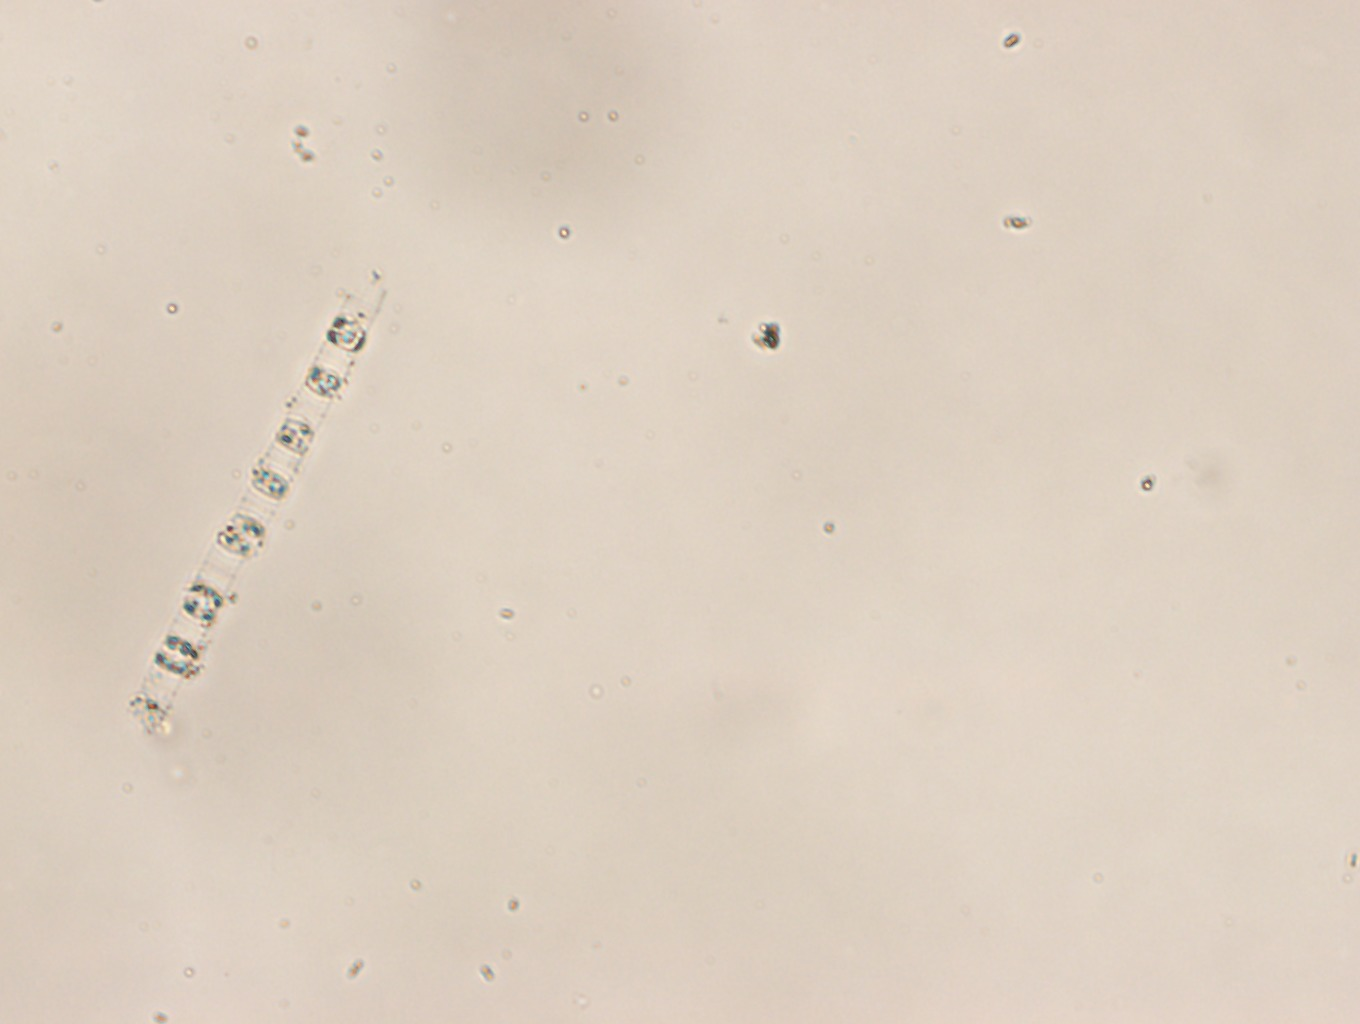skeletonema: (130, 286, 389, 737)
